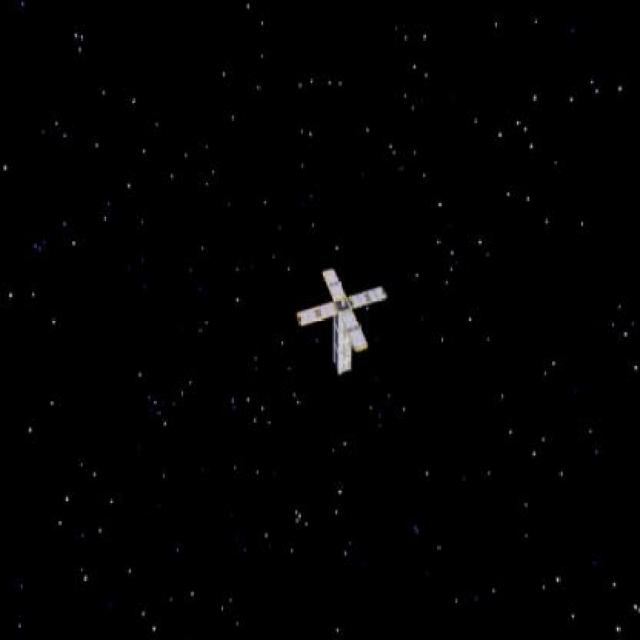medium_debris: (287, 265, 396, 377)
